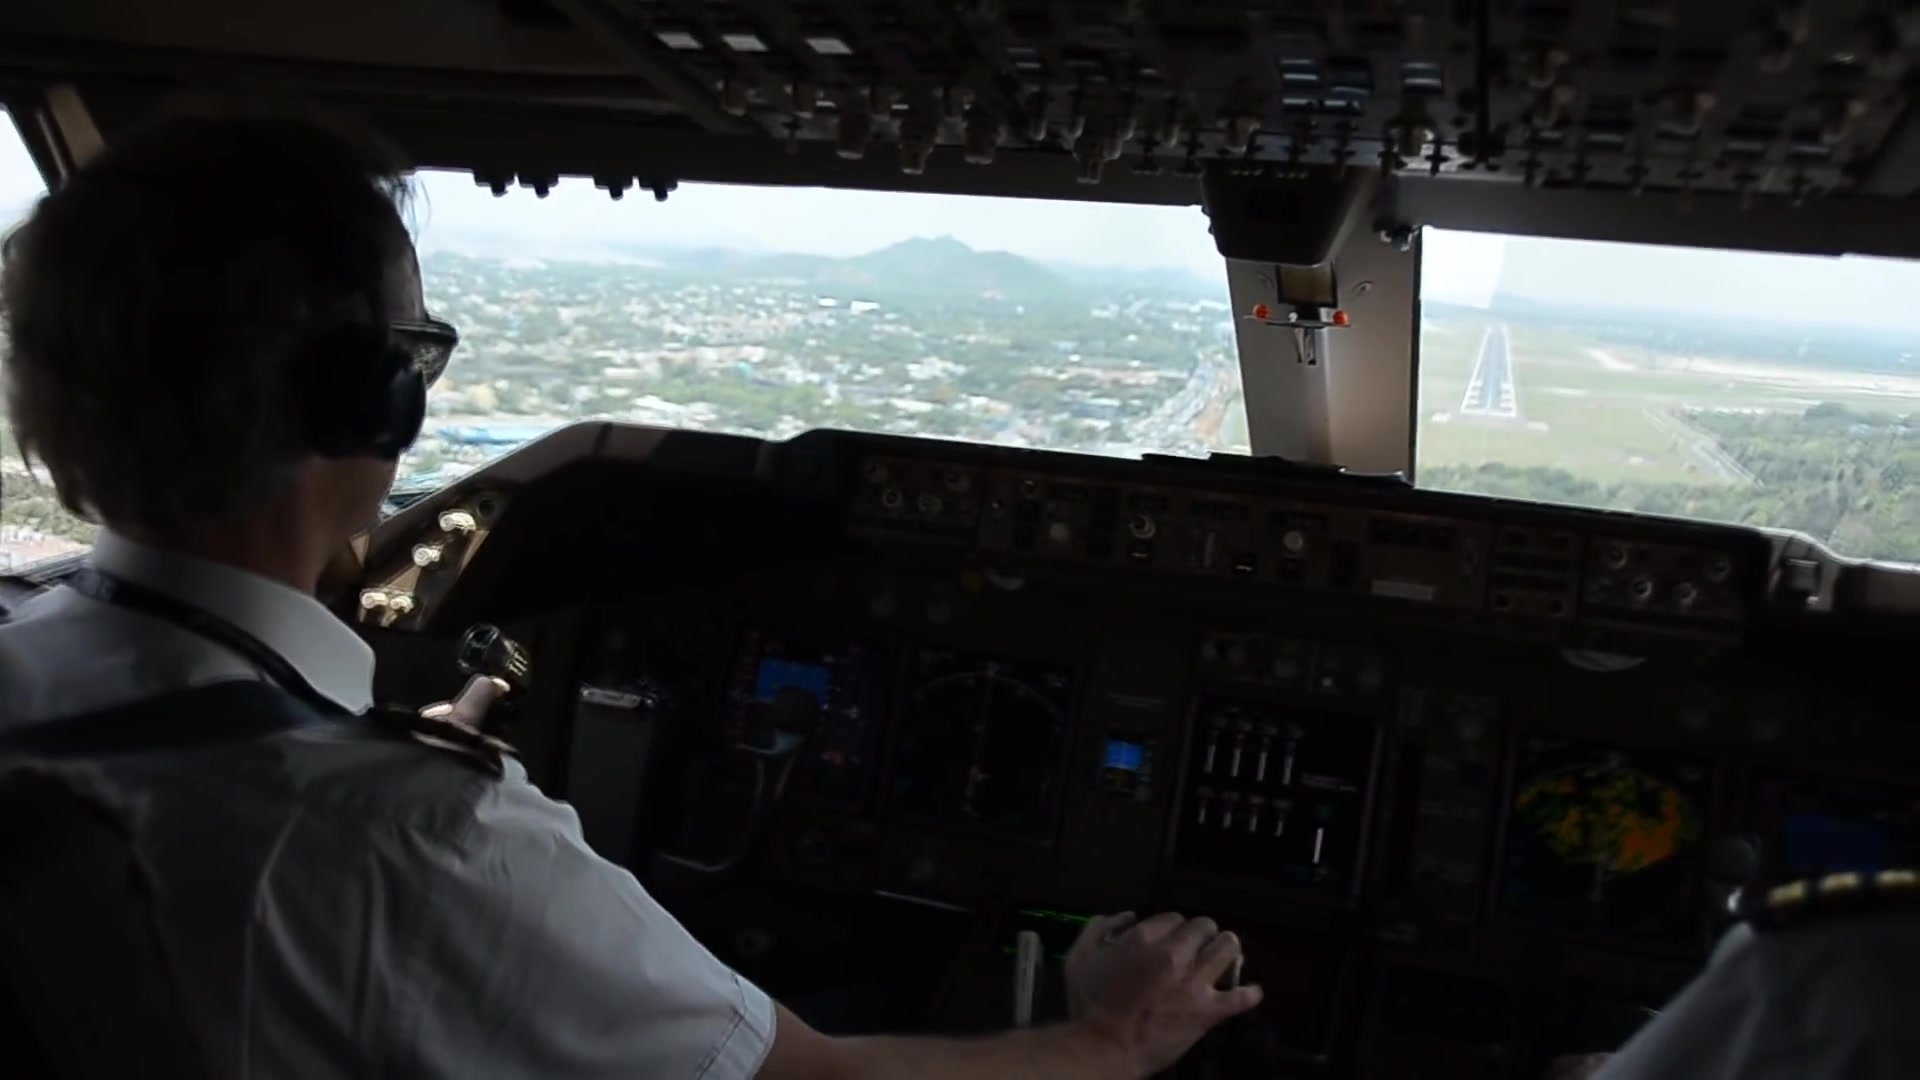runway: (1451, 320, 1522, 422)
